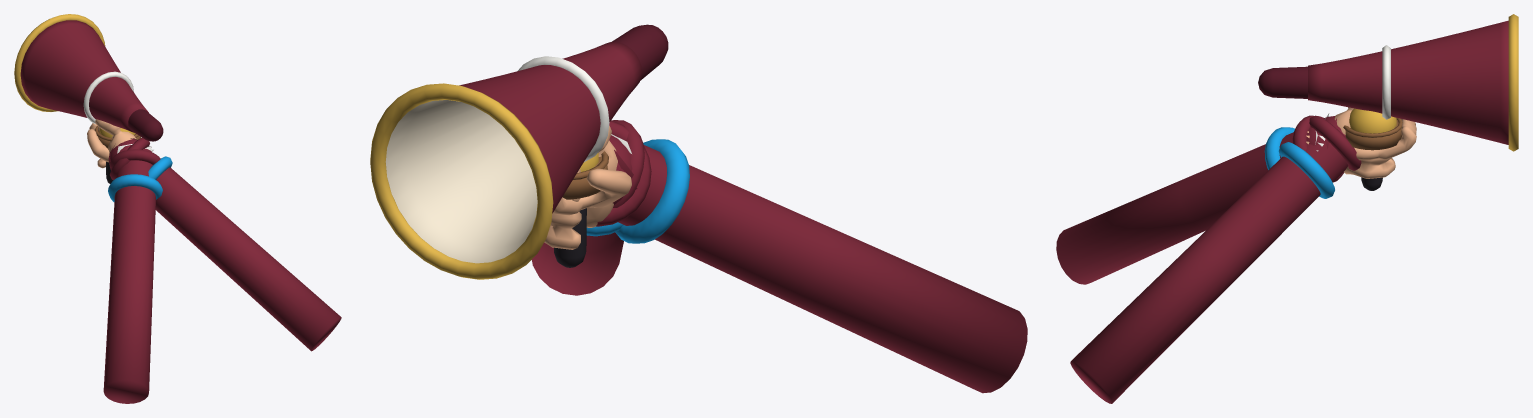
Rendered from debater.glb.
3 views of the same model, side by side, from view 1: azimuth 30°, elevation 25°; view 2: azimuth 150°, elevation 25°; view 3: azimuth 270°, elevation 25° (orthographic). The views are drawn at different scales.
Parts seen in each view (by area): view 1: R, L; view 2: R, L; view 3: R, L.
Boxes of the visible parts, left/top/right/bottom form: R: left=14, top=14, right=341, bottom=351; L: left=87, top=123, right=162, bottom=403; R: left=370, top=24, right=668, bottom=295; L: left=553, top=120, right=1027, bottom=393; R: left=1070, top=14, right=1518, bottom=403; L: left=1056, top=108, right=1416, bottom=284.
Bounding box in the file's own units: 0.5704 × 0.5599 × 0.7267.
